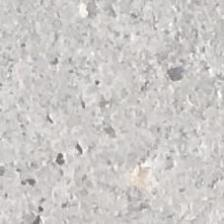Non_Crack: (37, 10, 205, 208)
